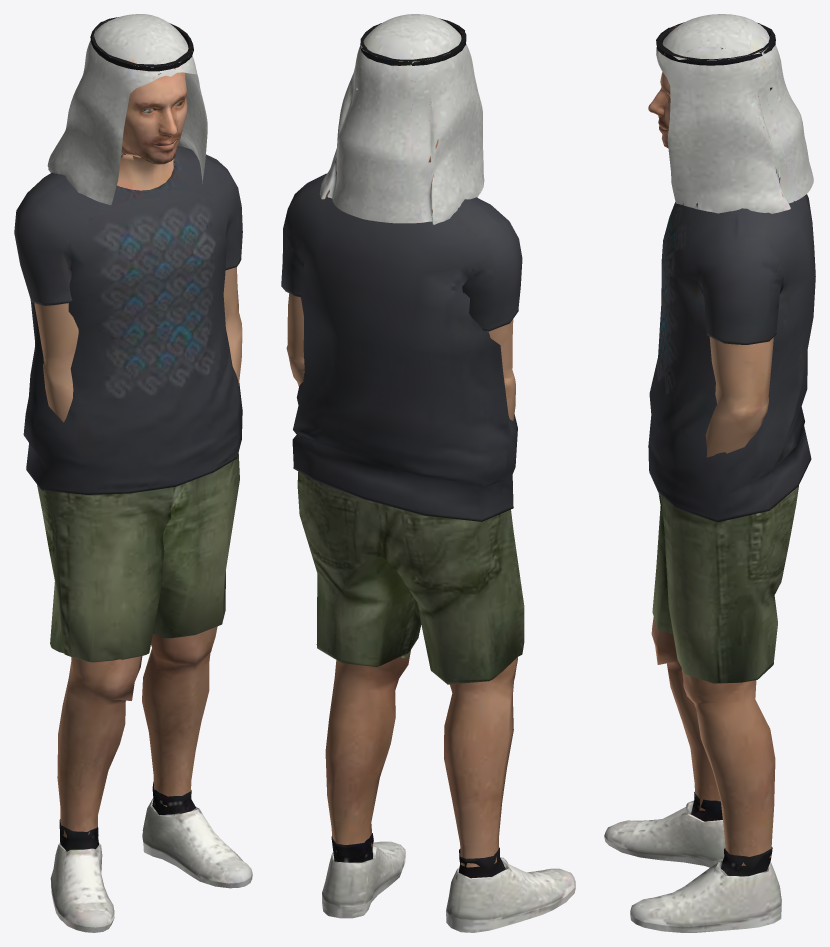
3 views of the same model, side by side, from view 1: azimuth 30°, elevation 25°; view 2: azimuth 150°, elevation 25°; view 3: azimuth 270°, elevation 25° (orthographic). The views are drawn at different scales.
Visible parts, largest first — view 1: keffiyeh202610_w012; view 2: keffiyeh202610_w012; view 3: keffiyeh202610_w012.
Boxes of the visible parts, <box> form: keffiyeh202610_w012: <box>14,14,252,932</box>; keffiyeh202610_w012: <box>281,14,575,932</box>; keffiyeh202610_w012: <box>604,14,815,932</box>.
Size of the model in its own units: 0.4722 by 1.74 by 0.3829.
1 material, 1 textured.
